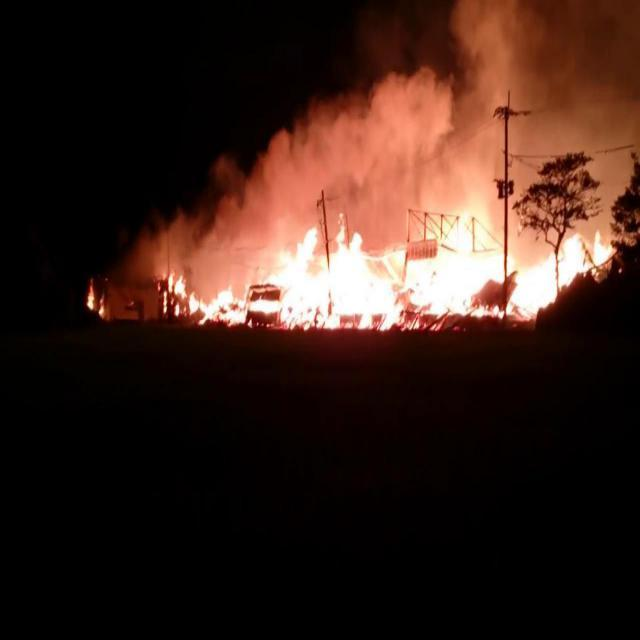Fire: (161, 212, 614, 322), (86, 276, 108, 316)
